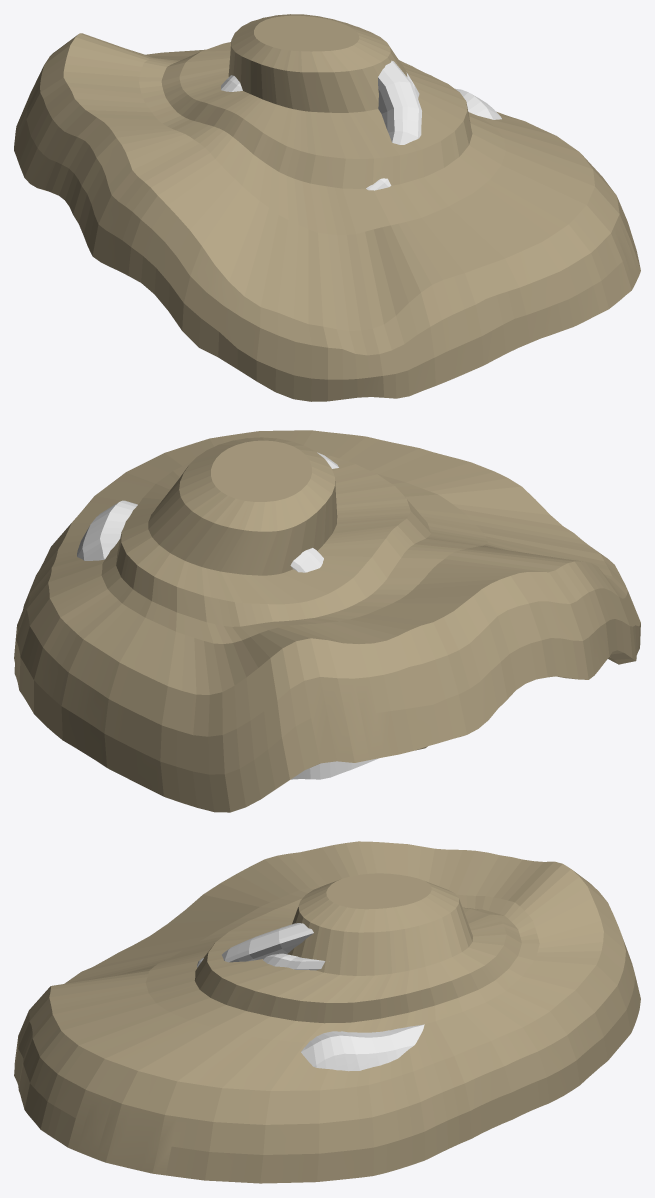
File: tinders.fbx
The picture shows the model from 3 angles, top to bottom: view 1: azimuth 30°, elevation 25°; view 2: azimuth 150°, elevation 25°; view 3: azimuth 270°, elevation 25°; orthographic projection. The views are drawn at different scales.
Parts seen in each view (by area): view 1: Cylinder.002, Cylinder.010, Cylinder.004; view 2: Cylinder.002, Cylinder.004, Cylinder.010; view 3: Cylinder.002, Cylinder.004, Cylinder.010, Cylinder.006.
Boxes of the visible parts, left/top/right/bottom form: Cylinder.002: left=14, top=14, right=640, bottom=401; Cylinder.010: left=221, top=60, right=421, bottom=190; Cylinder.004: left=455, top=88, right=501, bottom=119; Cylinder.002: left=14, top=430, right=640, bottom=812; Cylinder.004: left=77, top=500, right=378, bottom=779; Cylinder.010: left=290, top=452, right=338, bottom=572; Cylinder.002: left=14, top=841, right=640, bottom=1183; Cylinder.004: left=301, top=1024, right=424, bottom=1071; Cylinder.010: left=197, top=923, right=313, bottom=967; Cylinder.006: left=263, top=953, right=325, bottom=970.
Bounding box in the file's own units: 85.68 × 37.97 × 101.
